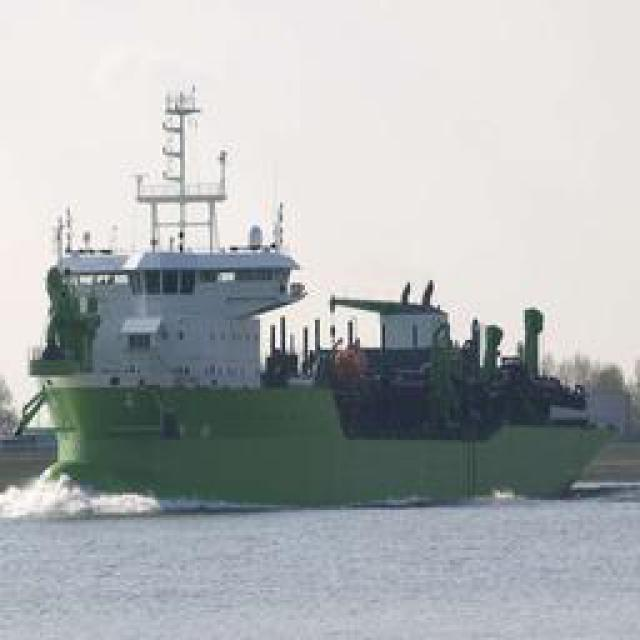Ship: (38, 127, 630, 522)
